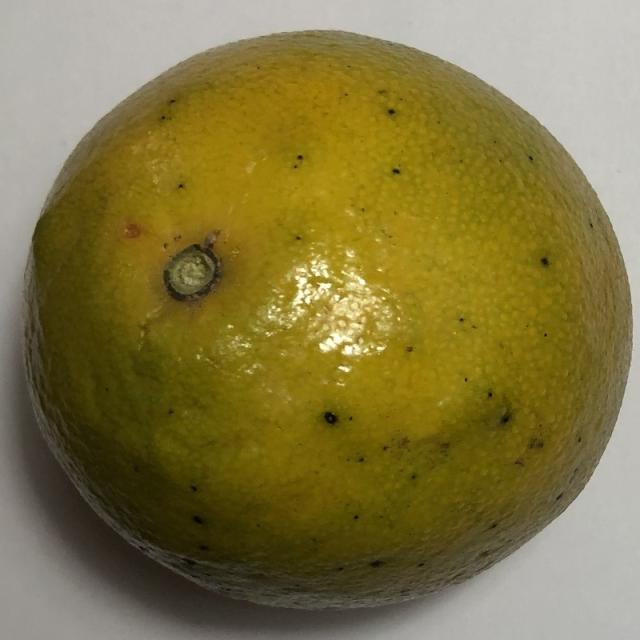black spot: (15, 27, 637, 607)
